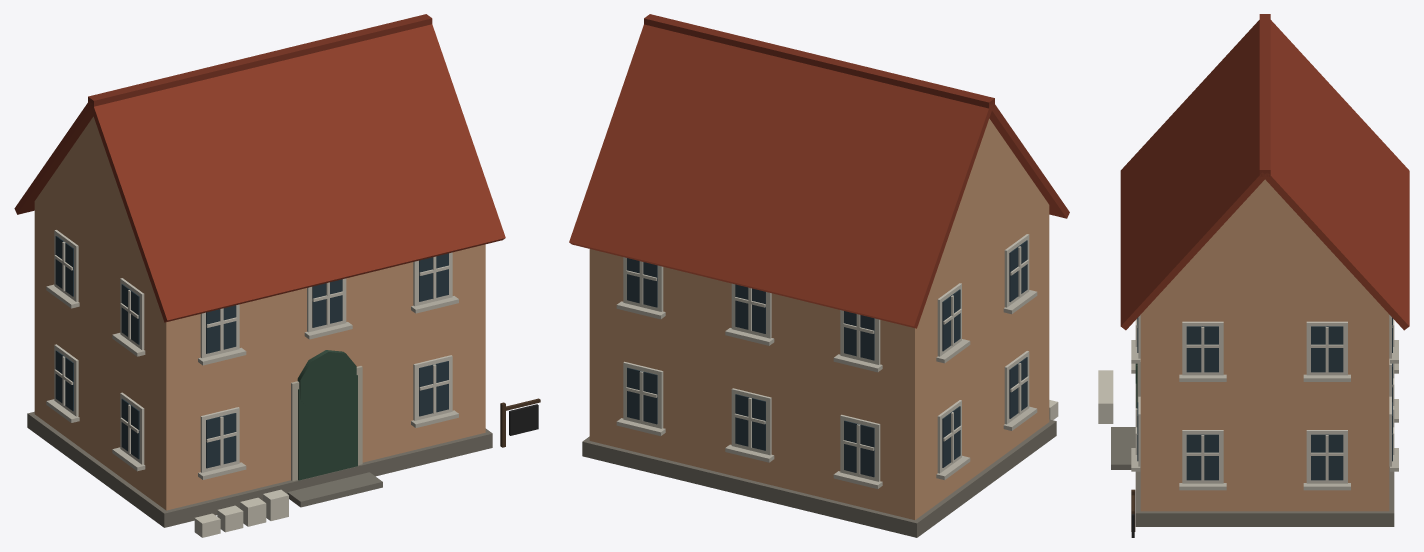
File: procedural_printer@4.glb
3 renders of one model, left to right at view 1: azimuth 30°, elevation 25°; view 2: azimuth 150°, elevation 25°; view 3: azimuth 270°, elevation 25°, orthographic. The views are drawn at different scales.
Parts seen in each view (by area): view 1: part_0; view 2: part_0; view 3: part_0.
Part boxes in pixels (x1,y1,x2,y2): part_0: (14,14,540,537); part_0: (569,14,1069,537); part_0: (1098,14,1409,537).
Size of the model in its own units: 8.31 by 7.97 by 6.25.
